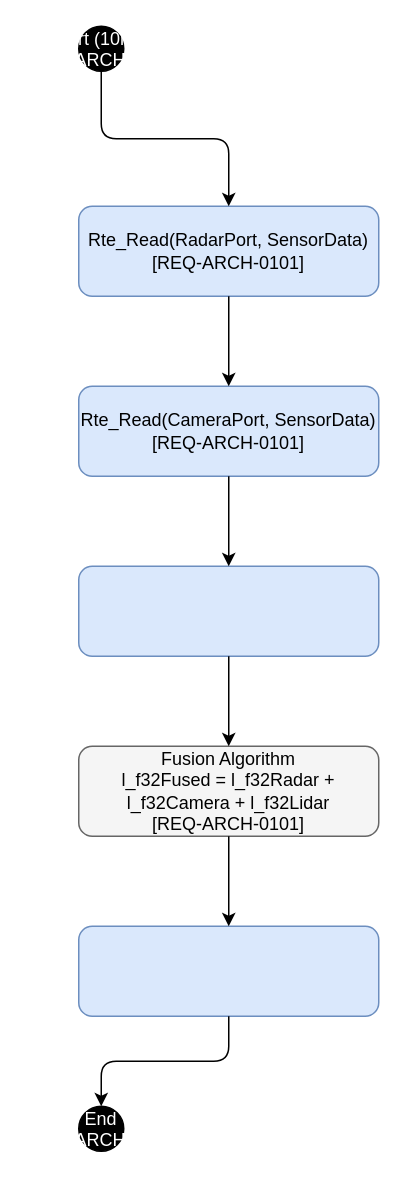
The diagram is 417 pixels wide and 1178 high, and some of its shapes have lost their labels. The box of each missing label's shape, as (x1, y1, x2, y2) in pixels:
Rte_Read(LidarPort, SensorData) [REQ-ARCH-0101]: (77, 565, 379, 656)
Rte_Write(FusedEnvironmentModelPort, FusedData) [REQ-ARCH-0101]: (77, 925, 379, 1016)
